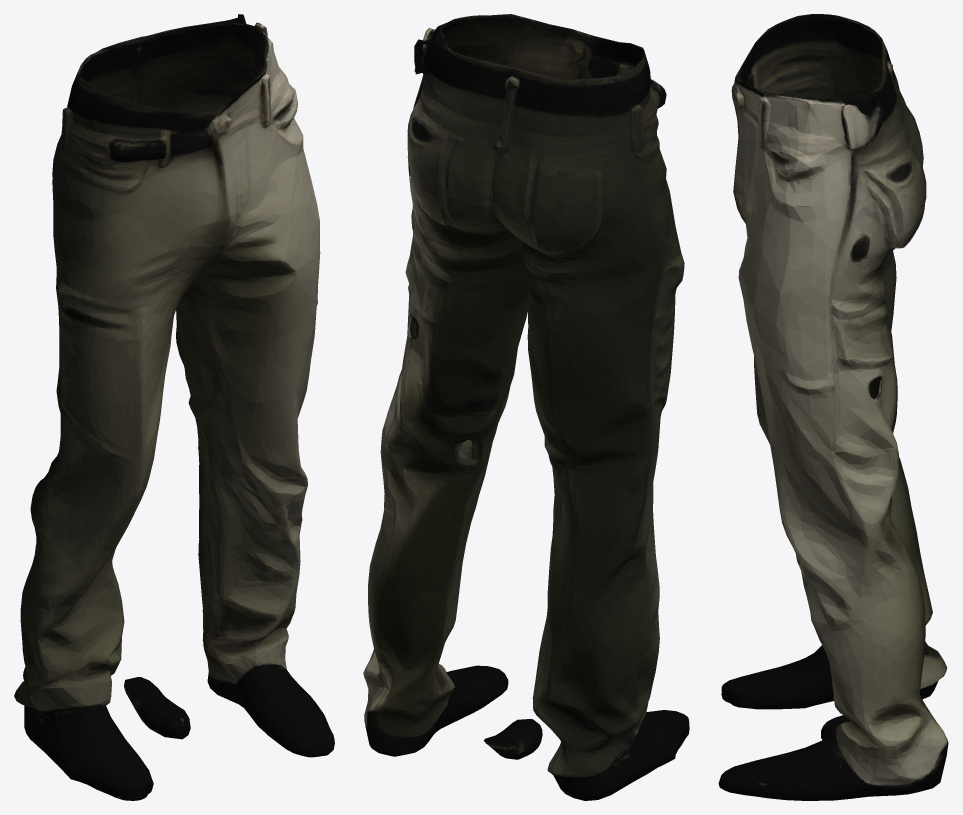
Rendered from 6a265a8a-1a17-467d-8e43-14cfc8556e3b.glb.
3 views of the same model, side by side, from view 1: azimuth 30°, elevation 25°; view 2: azimuth 150°, elevation 25°; view 3: azimuth 270°, elevation 25° (orthographic). The views are drawn at different scales.
Visible parts, largest first — view 1: world; view 2: world; view 3: world.
Boxes of the visible parts, bbox=[...] form: world: bbox=[14, 14, 334, 800]; world: bbox=[363, 14, 689, 800]; world: bbox=[718, 14, 948, 800].
Size of the model in its own units: 0.4085 by 0.9999 by 0.3044.
1 material, 1 textured.
